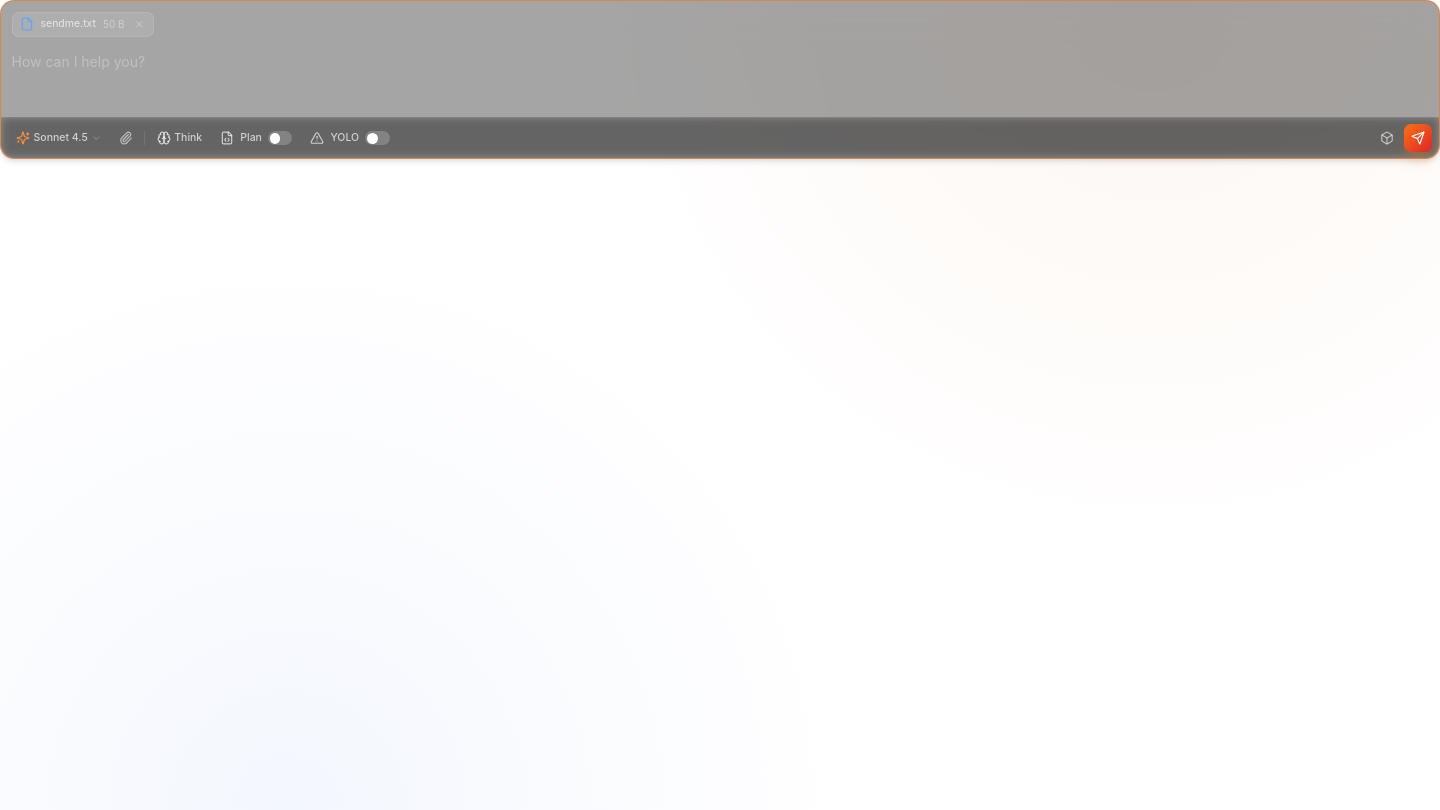
Test case: MessageInput › attachments › should clear attachments when message is sent
Expected: the text "sendme.txt" is shown, [40, 17, 96, 31]
// Type and send message
Type "Send with attachment" into the text box with placeholder "How can I help you?". click: {"x": 720, "y": 76}
box: [12, 50, 1428, 100]
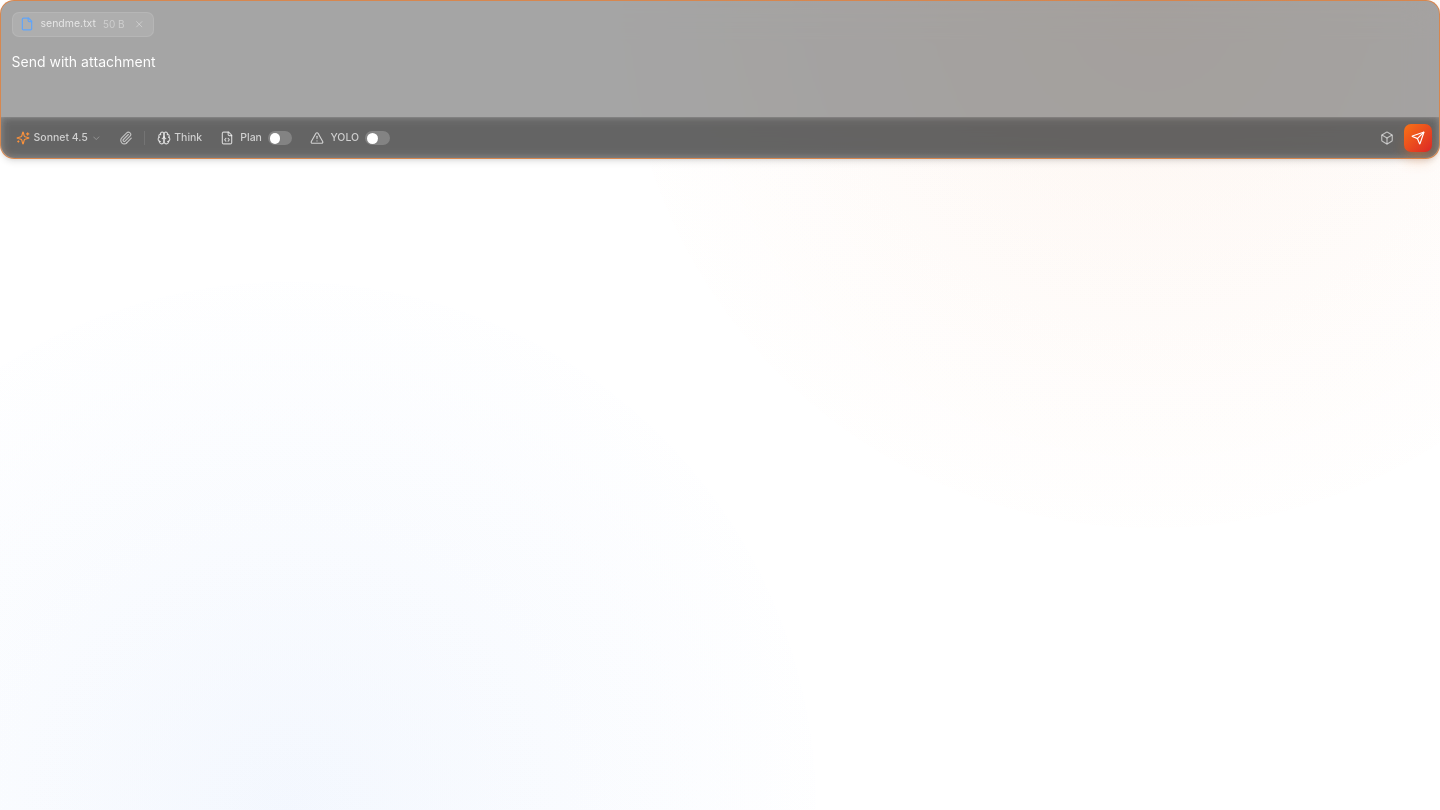
Press Enter in the text box with placeholder "How can I help you?", box [12, 50, 1428, 100]
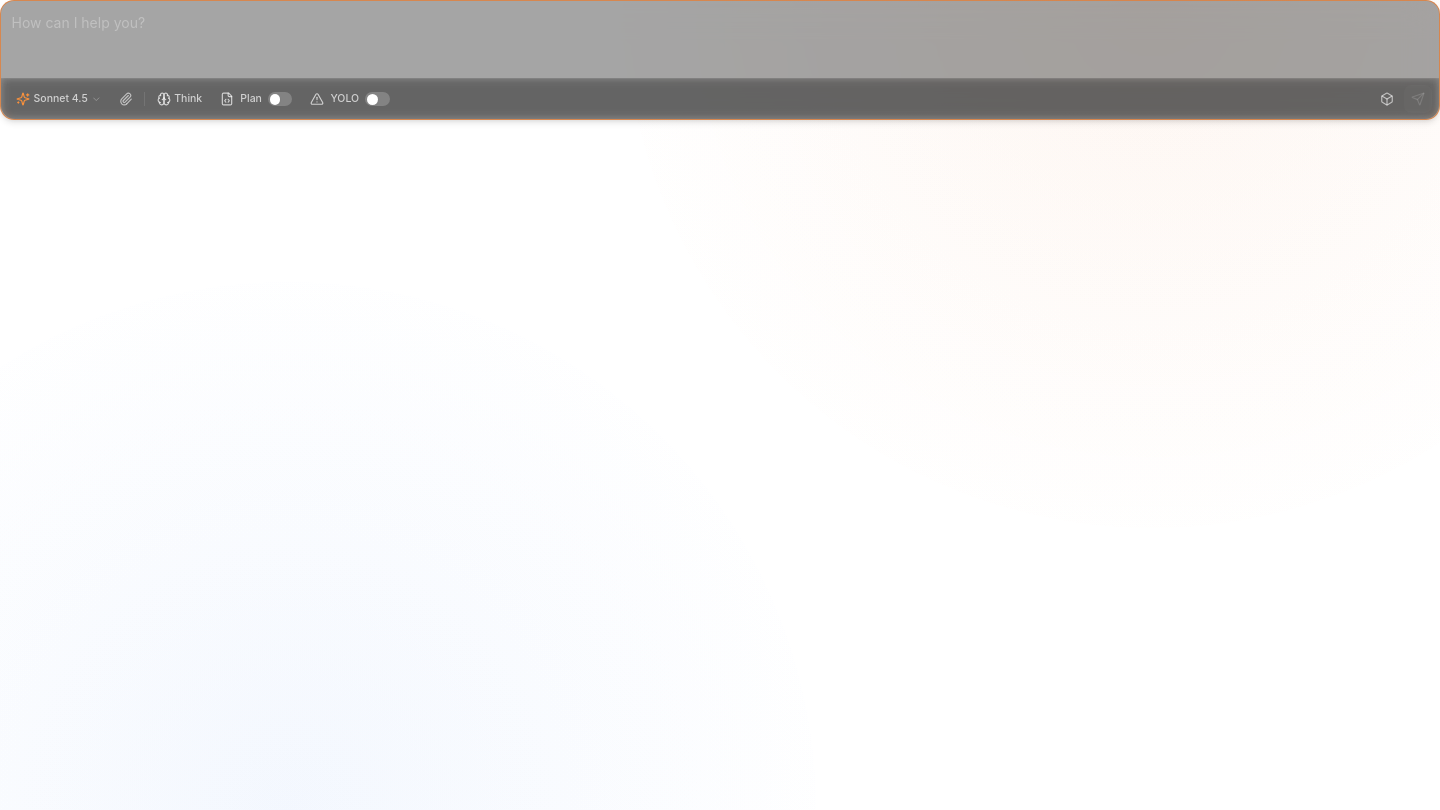
Expected: the text "sendme.txt" is gone
